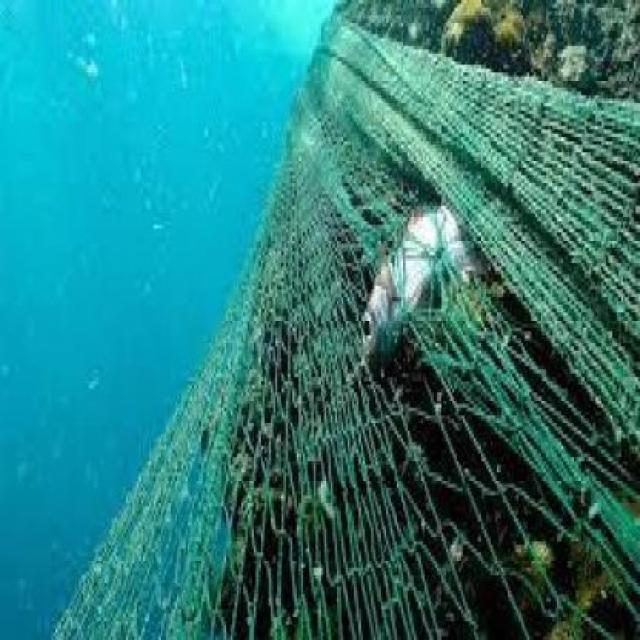net: (71, 44, 640, 640)
